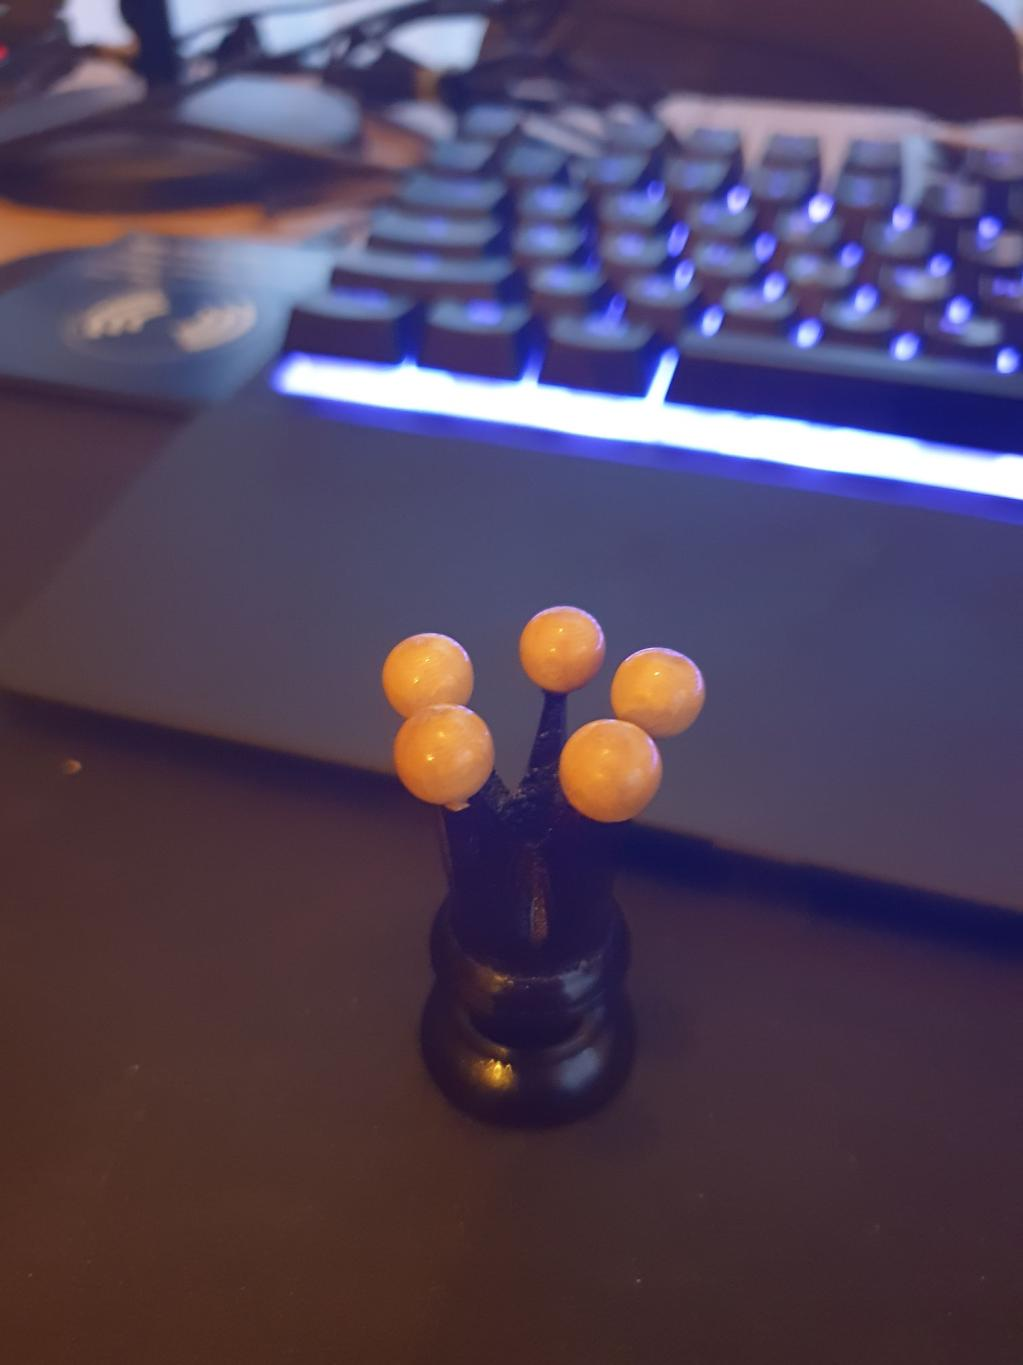bqueen: (378, 605, 704, 1133)
